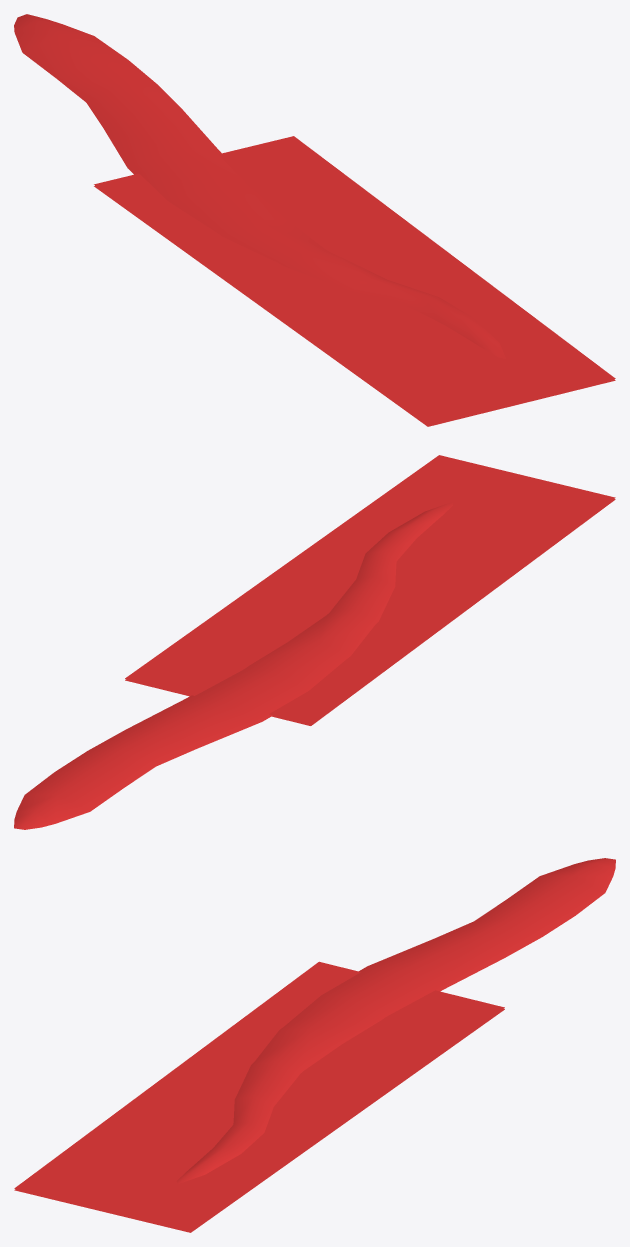
The model's file is mw_eel.FBX.
3 views of the same model, one above another, from view 1: azimuth 30°, elevation 25°; view 2: azimuth 150°, elevation 25°; view 3: azimuth 330°, elevation 25° (orthographic). The views are drawn at different scales.
Visible parts, largest first — view 1: mw_eel; view 2: mw_eel; view 3: mw_eel.
Boxes of the visible parts, left/top/right/bottom form: mw_eel: left=14, top=14, right=615, bottom=426; mw_eel: left=14, top=455, right=615, bottom=829; mw_eel: left=14, top=858, right=615, bottom=1232.
Size of the model in its own units: 21.86 by 1.91 by 99.
